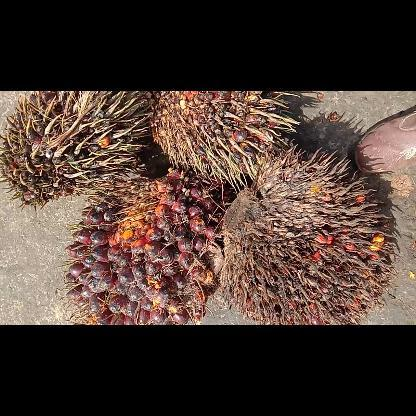Kurang masak: (0, 90, 154, 208)
TBS abnormal: (216, 144, 392, 324), (148, 92, 296, 188)
Terlalu masak: (66, 172, 218, 324)
